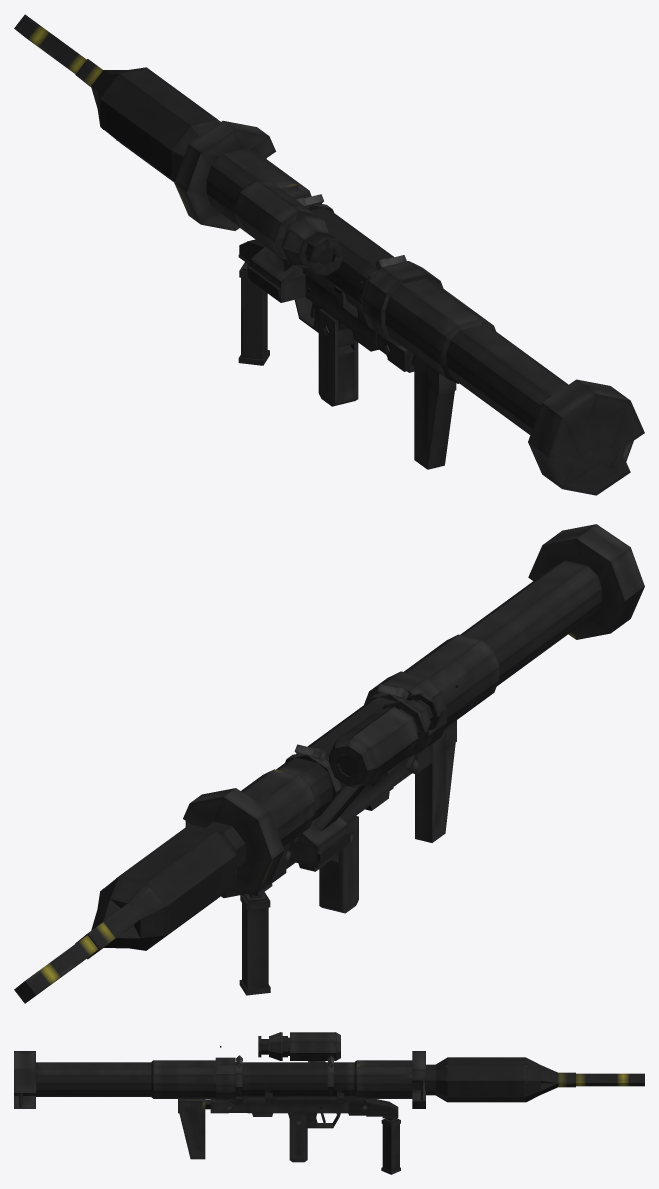
The picture shows the model from 3 angles, top to bottom: view 1: azimuth 30°, elevation 25°; view 2: azimuth 150°, elevation 25°; view 3: azimuth 270°, elevation 25°; orthographic projection. The views are drawn at different scales.
Visible parts, largest first — view 1: tube, rocket, sight, receiver, stock, pistolgrip, grip; view 2: tube, rocket, sight, receiver, stock, grip, pistolgrip, ring2; view 3: tube, rocket, receiver, sight, stock, grip, pistolgrip, ring, ring2.
Part boxes in pixels (x1=…): tube: x1=174, y1=120, x2=644, y2=495; rocket: x1=14, y1=14, x2=220, y2=182; sight: x1=233, y1=180, x2=344, y2=275; receiver: x1=247, y1=246, x2=386, y2=354; stock: x1=383, y1=341, x2=456, y2=469; pistolgrip: x1=294, y1=297, x2=358, y2=406; grip: x1=238, y1=239, x2=269, y2=365; tube: x1=183, y1=524, x2=644, y2=897; rocket: x1=14, y1=821, x2=245, y2=1003; sight: x1=328, y1=693, x2=440, y2=787; receiver: x1=286, y1=757, x2=411, y2=868; stock: x1=284, y1=720, x2=456, y2=866; grip: x1=239, y1=845, x2=290, y2=995; pistolgrip: x1=298, y1=816, x2=358, y2=913; ring2: x1=285, y1=744, x2=341, y2=802; tube: x1=14, y1=1051, x2=425, y2=1108; rocket: x1=412, y1=1057, x2=644, y2=1102; receiver: x1=229, y1=1061, x2=366, y2=1116; sight: x1=258, y1=1032, x2=340, y2=1060; stock: x1=178, y1=1099, x2=372, y2=1159; grip: x1=362, y1=1099, x2=400, y2=1174; pistolgrip: x1=288, y1=1113, x2=340, y2=1162; ring: x1=235, y1=1055, x2=242, y2=1097; ring2: x1=327, y1=1055, x2=334, y2=1097.
Size of the model in its own units: 77.18 by 139 by 636.
Materials: 1 (1 with a texture image).
